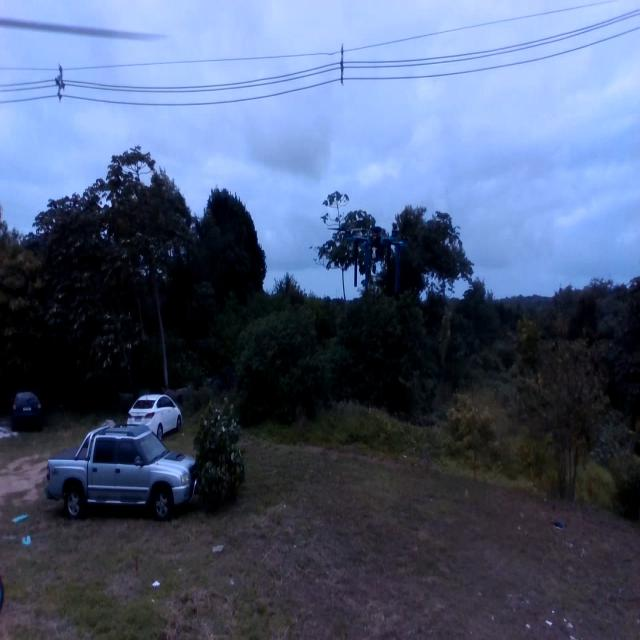-uav-: (325, 215, 423, 305)
